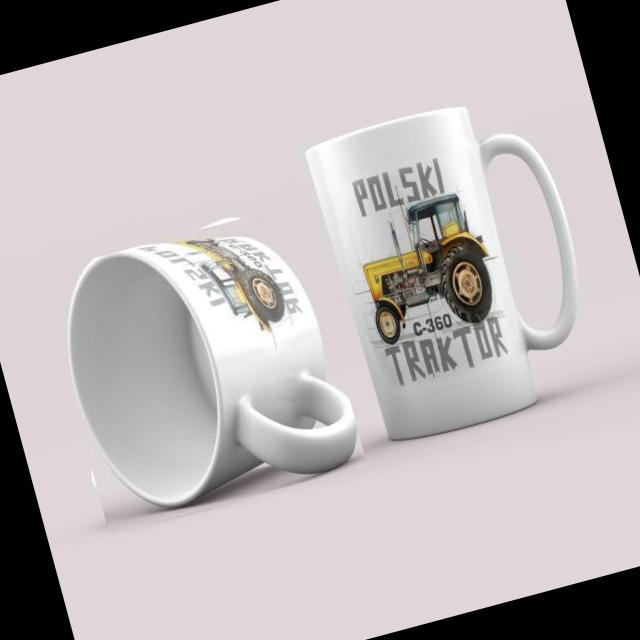Coffee Mug: (302, 82, 612, 450), (46, 203, 366, 527)
